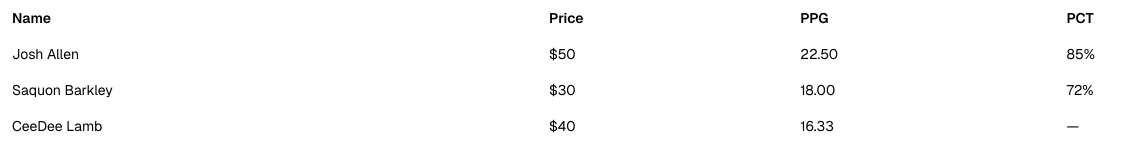
it: DataTable › toggles to descending on second click
Click the column heading "Price" at (566, 18), box [537,0,788,36]
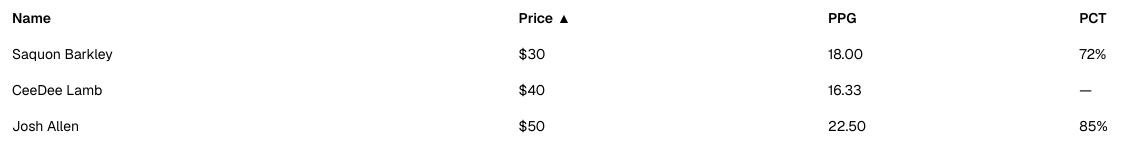
Click the column heading "Price" at (536, 18), box [507,0,816,36]
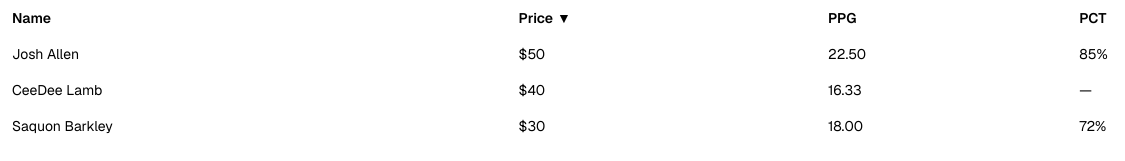
Now the text "$40" is shown, box [507,72,816,108]
Now the text "$50" is shown, box [507,36,816,72]
Now the text "$30" is shown, box [507,108,816,144]
